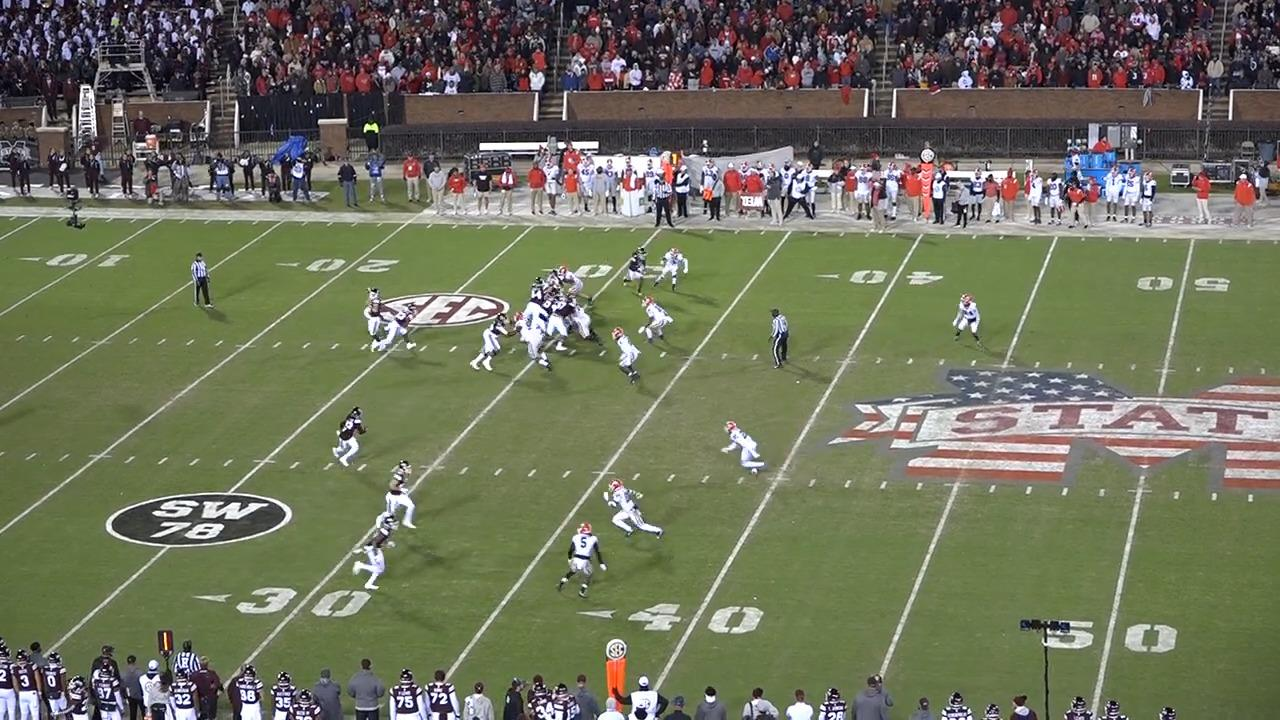player: (600, 478, 663, 543), (554, 524, 602, 603), (347, 513, 392, 592), (377, 461, 416, 538), (724, 420, 770, 478), (468, 313, 511, 375), (328, 406, 366, 473), (376, 301, 418, 354), (518, 315, 553, 373), (568, 292, 603, 346), (363, 284, 390, 353), (949, 290, 981, 346), (654, 244, 690, 293), (641, 296, 673, 347), (617, 327, 645, 385), (517, 277, 550, 322), (621, 244, 648, 297), (547, 299, 572, 353), (556, 262, 588, 302), (536, 294, 561, 332), (546, 271, 563, 293)
ref: (186, 254, 213, 314), (767, 305, 791, 371), (171, 638, 201, 682), (650, 175, 673, 229)
